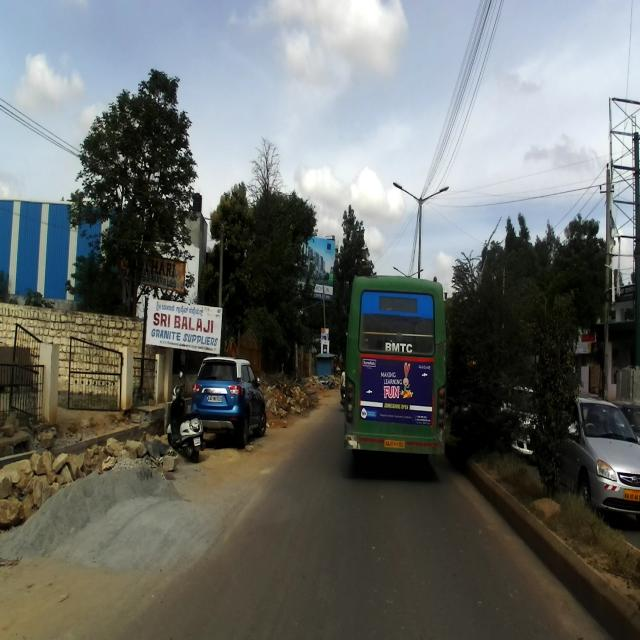Car_Maruti-Suzuki: (190, 354, 267, 448)
Car_TATA: (544, 394, 639, 526)
bus: (343, 272, 446, 476)
scooter: (166, 374, 204, 460)
